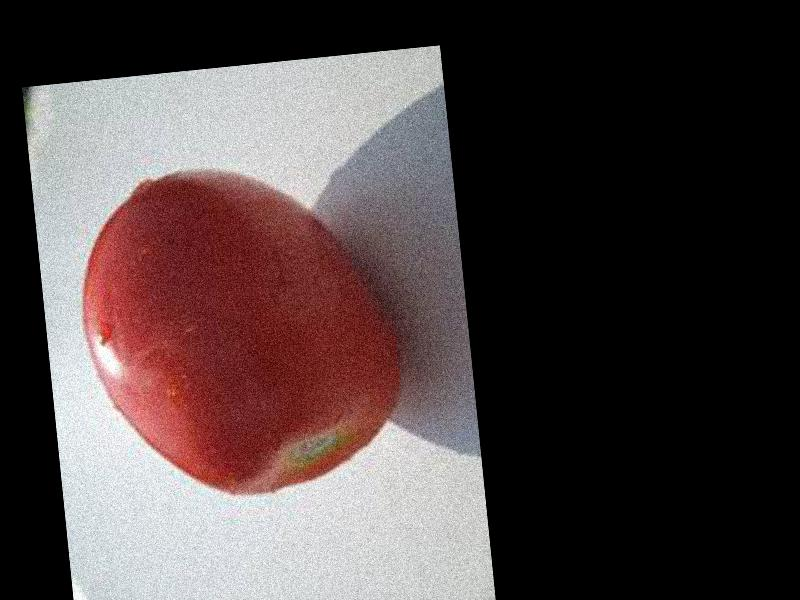Tomato: (69, 153, 409, 509)
